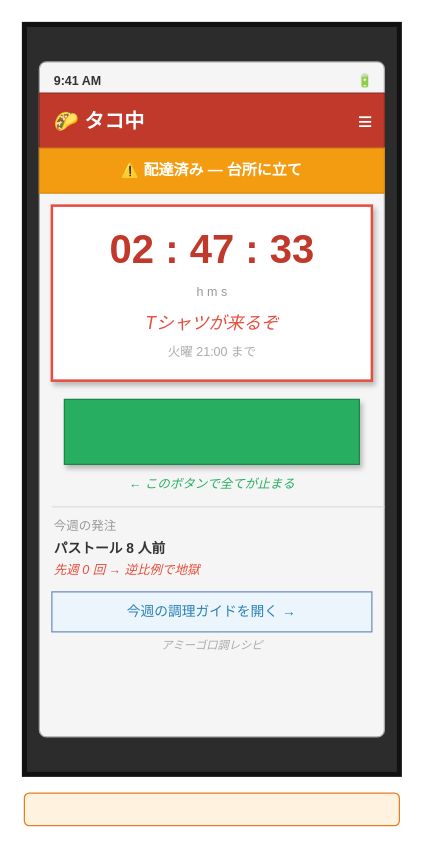
Image size: 423x848. Some labels were removed from this diagram. The centre of each missing label's shape, as x and y in pixels:
"Push 無視 → Level A → B → C" belongs at pixel 211 809.
"✅ TACO! 食べた" belongs at pixel 212 433.
